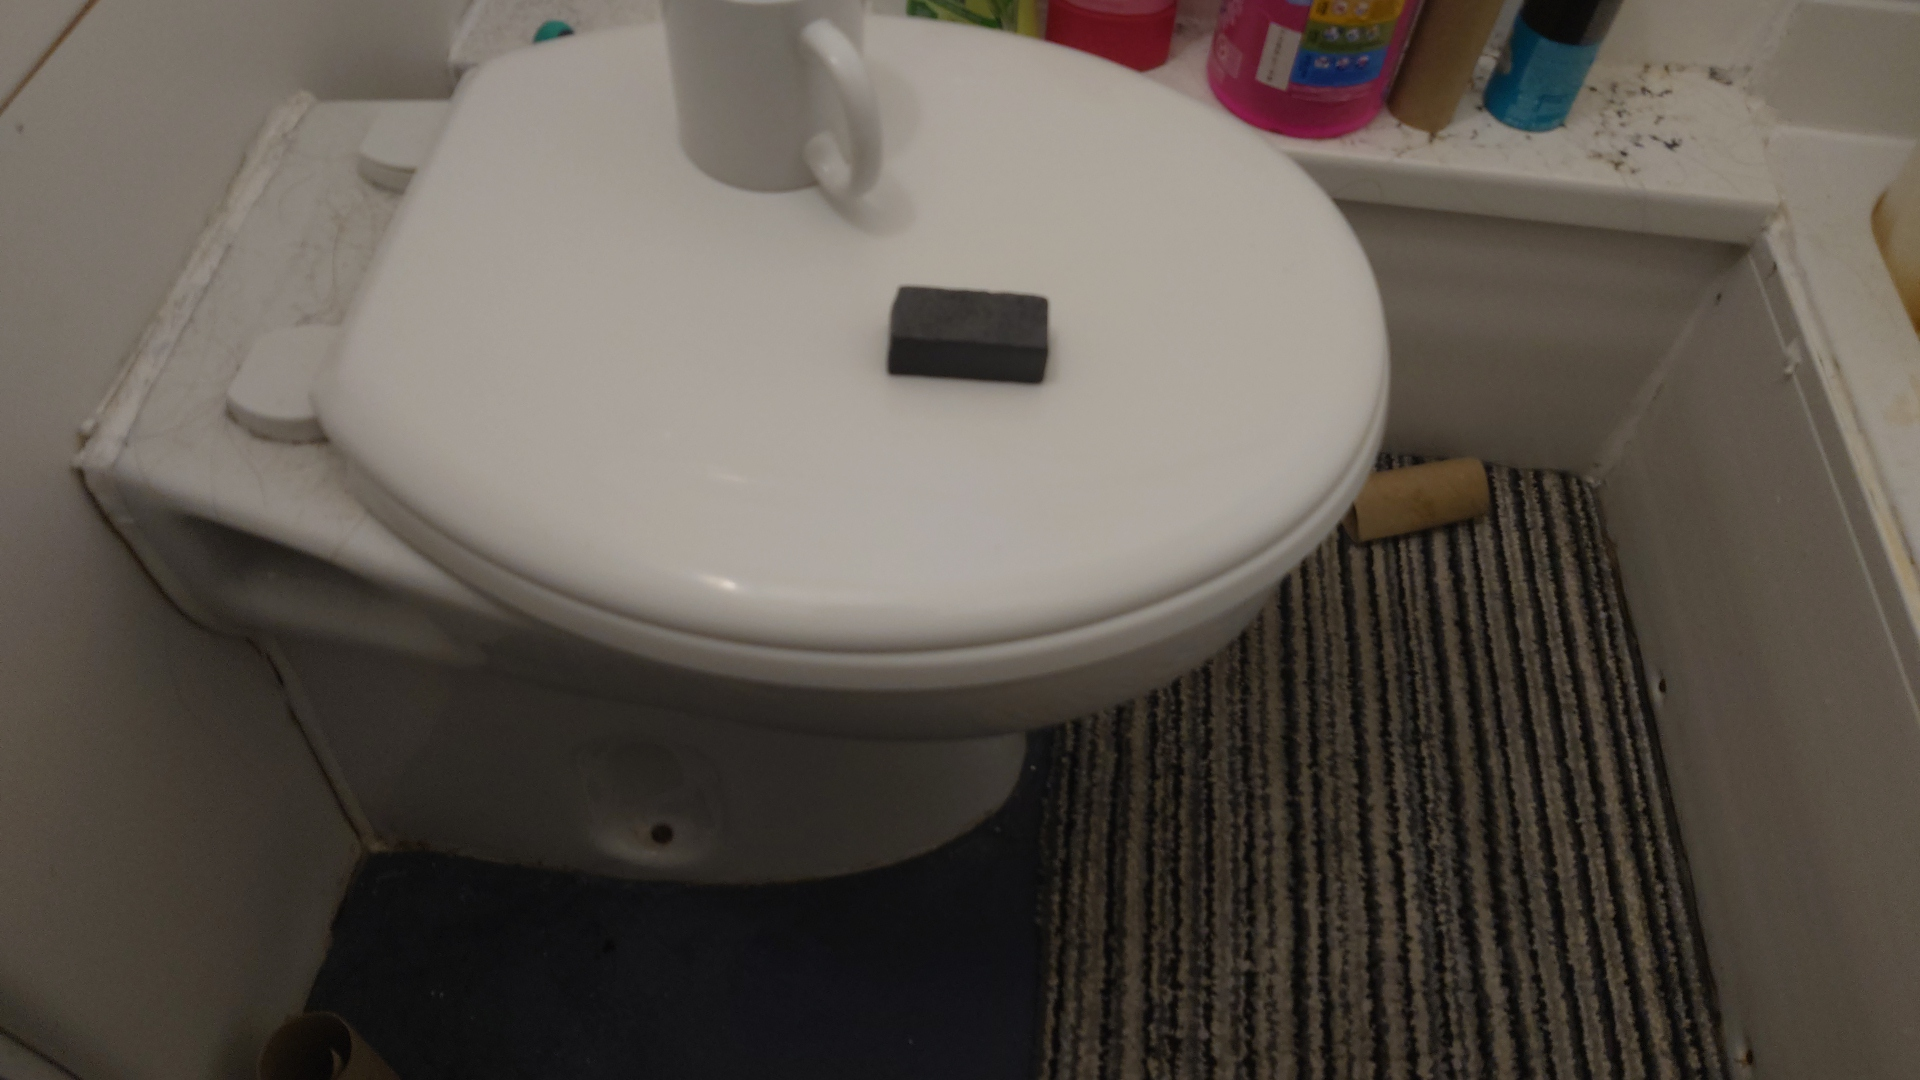cup: (655, 0, 894, 207)
target: (885, 270, 1050, 386)
